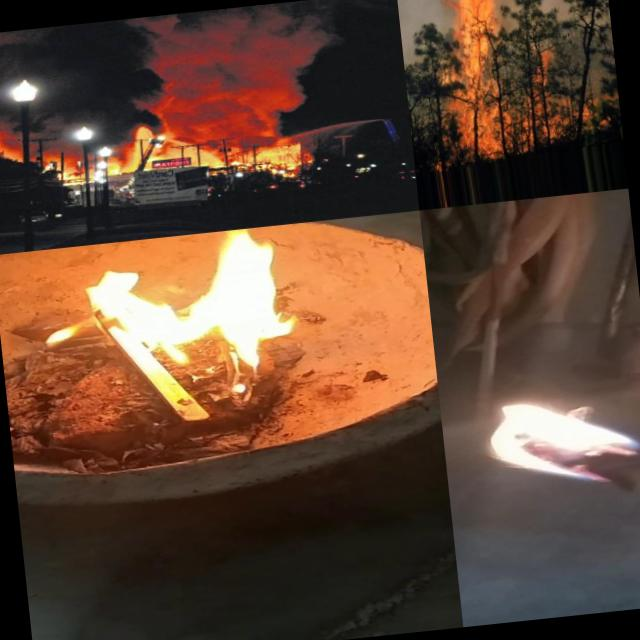fire: (29, 220, 340, 417), (457, 351, 640, 510), (444, 0, 518, 155), (195, 134, 312, 184), (103, 130, 165, 172), (58, 161, 102, 193)
smoke: (152, 12, 342, 149)
